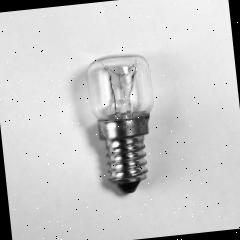lightbulb: (84, 50, 162, 195)
